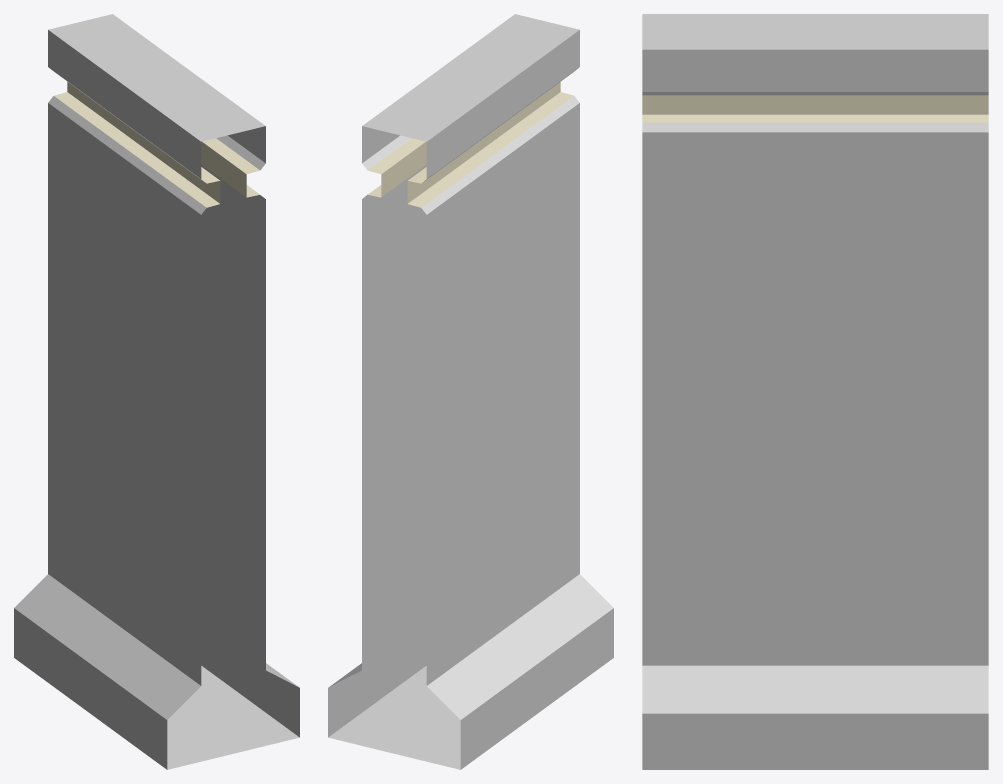
The model's file is wall-base.fbx.
3 views of the same model, side by side, from view 1: azimuth 30°, elevation 25°; view 2: azimuth 150°, elevation 25°; view 3: azimuth 270°, elevation 25° (orthographic). The views are drawn at different scales.
Visible parts, largest first — view 1: wall_base; view 2: wall_base; view 3: wall_base.
Part boxes in pixels (x1,y1,x2,y2): wall_base: (14,14,299,769); wall_base: (328,14,613,769); wall_base: (642,14,988,769).
Bounding box in the file's own units: 50 × 223 × 100.
